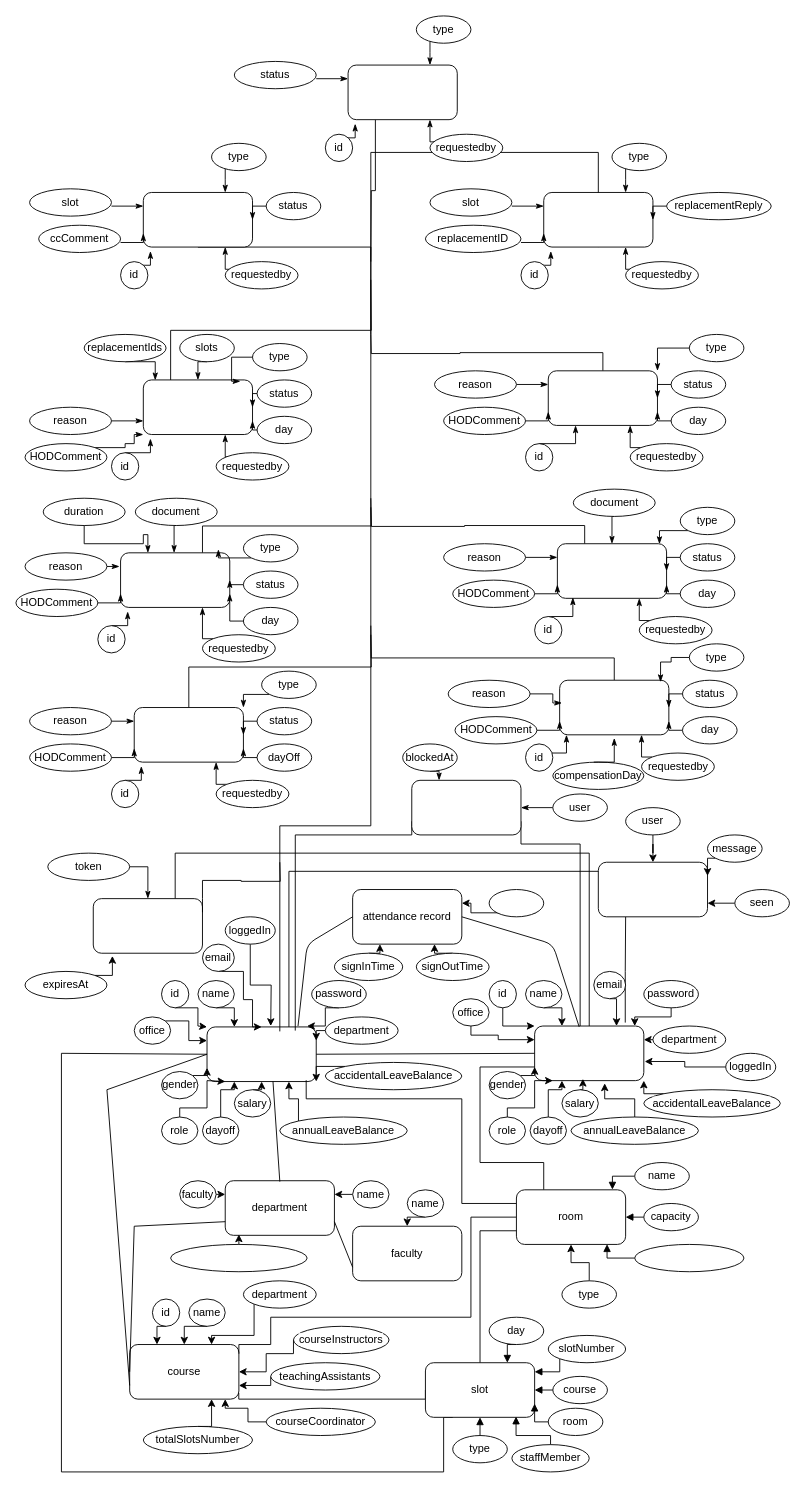
This 805x1489 diagram has some shape labels left out. Here are the shapes that lost their labels. From the top down, the centre of each, then its label:
At point 402,92: "request".
At point 197,219: "slot linking request".
At point 598,219: "replacement request".
At point 197,407: "annual leave request".
At point 602,397: "accidental leave request".
At point 175,579: "maternity leave request".
At point 611,570: "sick leaves request".
At point 614,707: "compensation request".
At point 188,734: "day off change request".
At point 466,807: "user blacklist".
At point 516,903: "staffId".
At point 652,889: "notification".
At point 147,925: "jwt blacklist".
At point 261,1054: "academic member".
At point 589,1053: "hr member".
At point 238,1258: "headOfDepartment".
At point 689,1258: "remainingCapacity".
